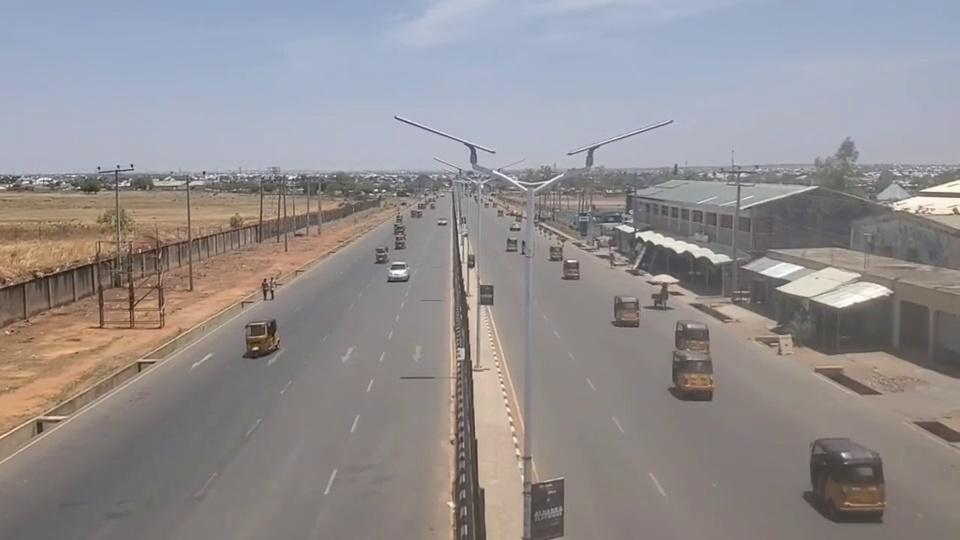keke: (808, 436, 886, 520), (244, 318, 280, 357)
